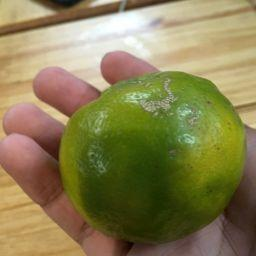Unripe: (58, 72, 243, 248)
